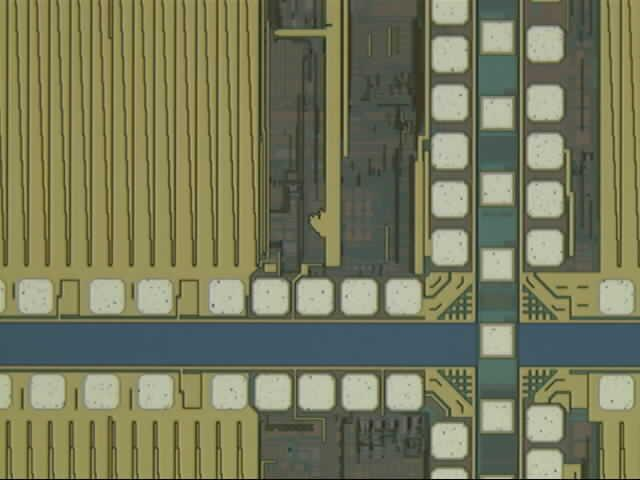BLOCK ETCH: (305, 204, 334, 242)
